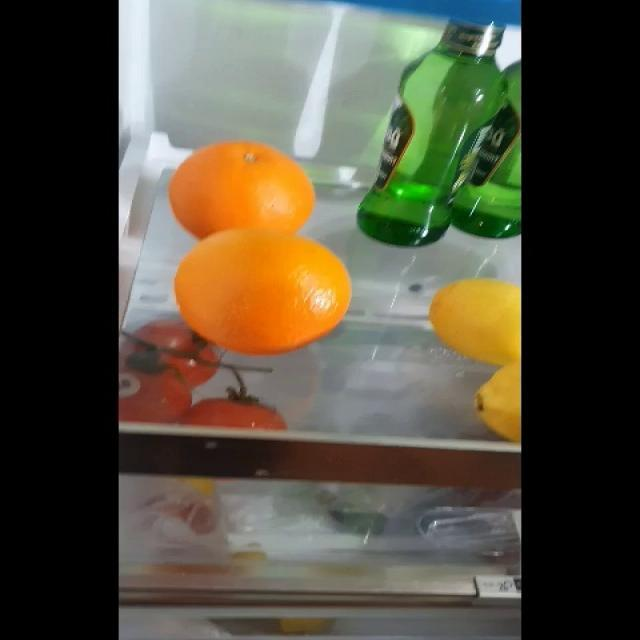lemon: (438, 280, 520, 358)
mineral water: (363, 12, 510, 240)
orange: (174, 238, 353, 350), (169, 142, 320, 238)
